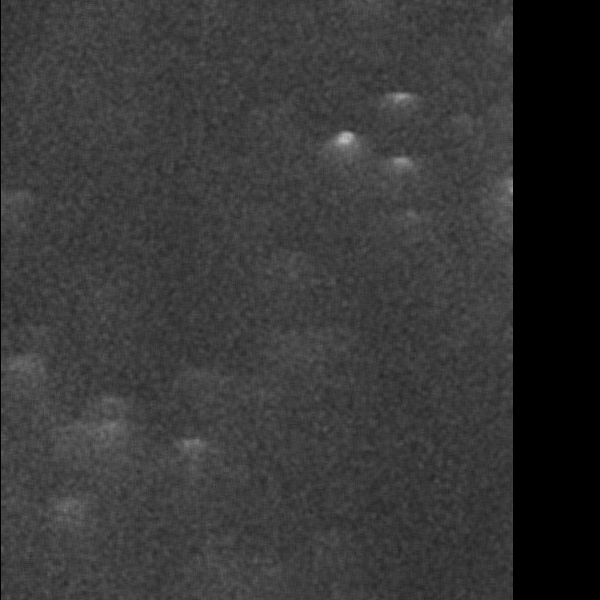spark: (137, 296, 214, 333), (79, 545, 130, 592)
